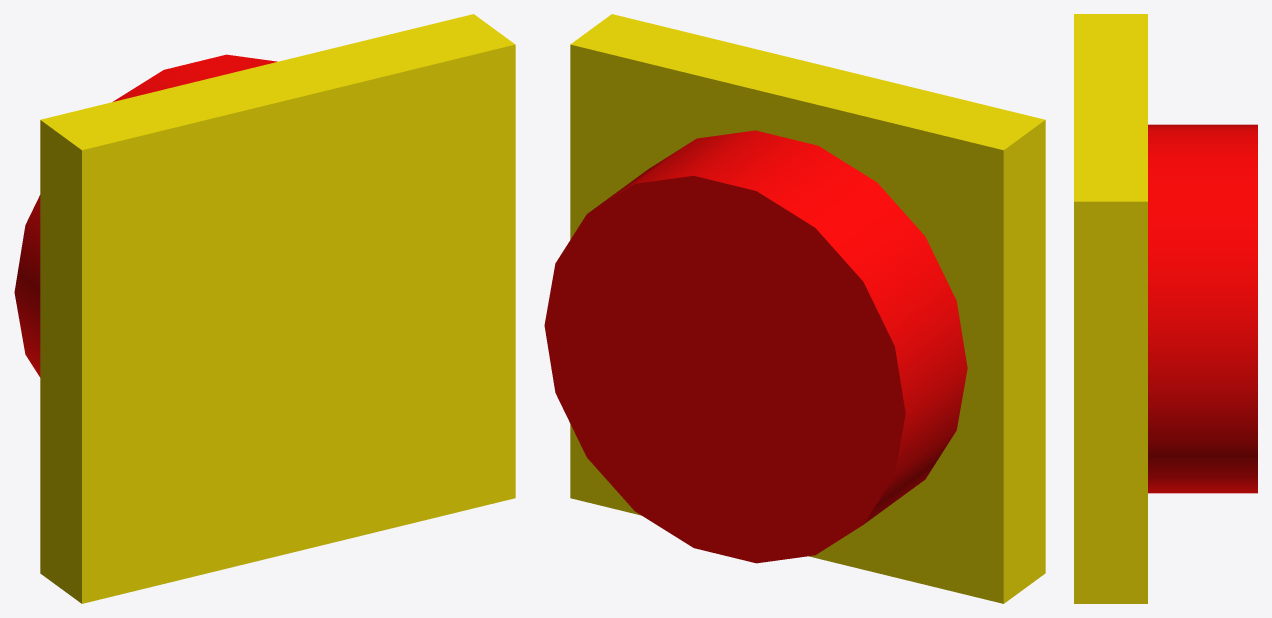
Rendered from Button Model.FBX.
3 renders of one model, left to right at view 1: azimuth 30°, elevation 25°; view 2: azimuth 150°, elevation 25°; view 3: azimuth 270°, elevation 25°, orthographic. The views are drawn at different scales.
Visible parts, largest first — view 1: Box001, Cylinder001; view 2: Cylinder001, Box001; view 3: Box001, Cylinder001.
Boxes of the visible parts, x1,y1,x2,y2 form: Box001: (40,14,515,603); Cylinder001: (14,54,277,377); Cylinder001: (544,130,967,563); Box001: (570,14,1045,603); Box001: (1074,14,1147,603); Cylinder001: (1148,124,1257,493).
Size of the model in its own units: 12 by 12 by 4.97.
